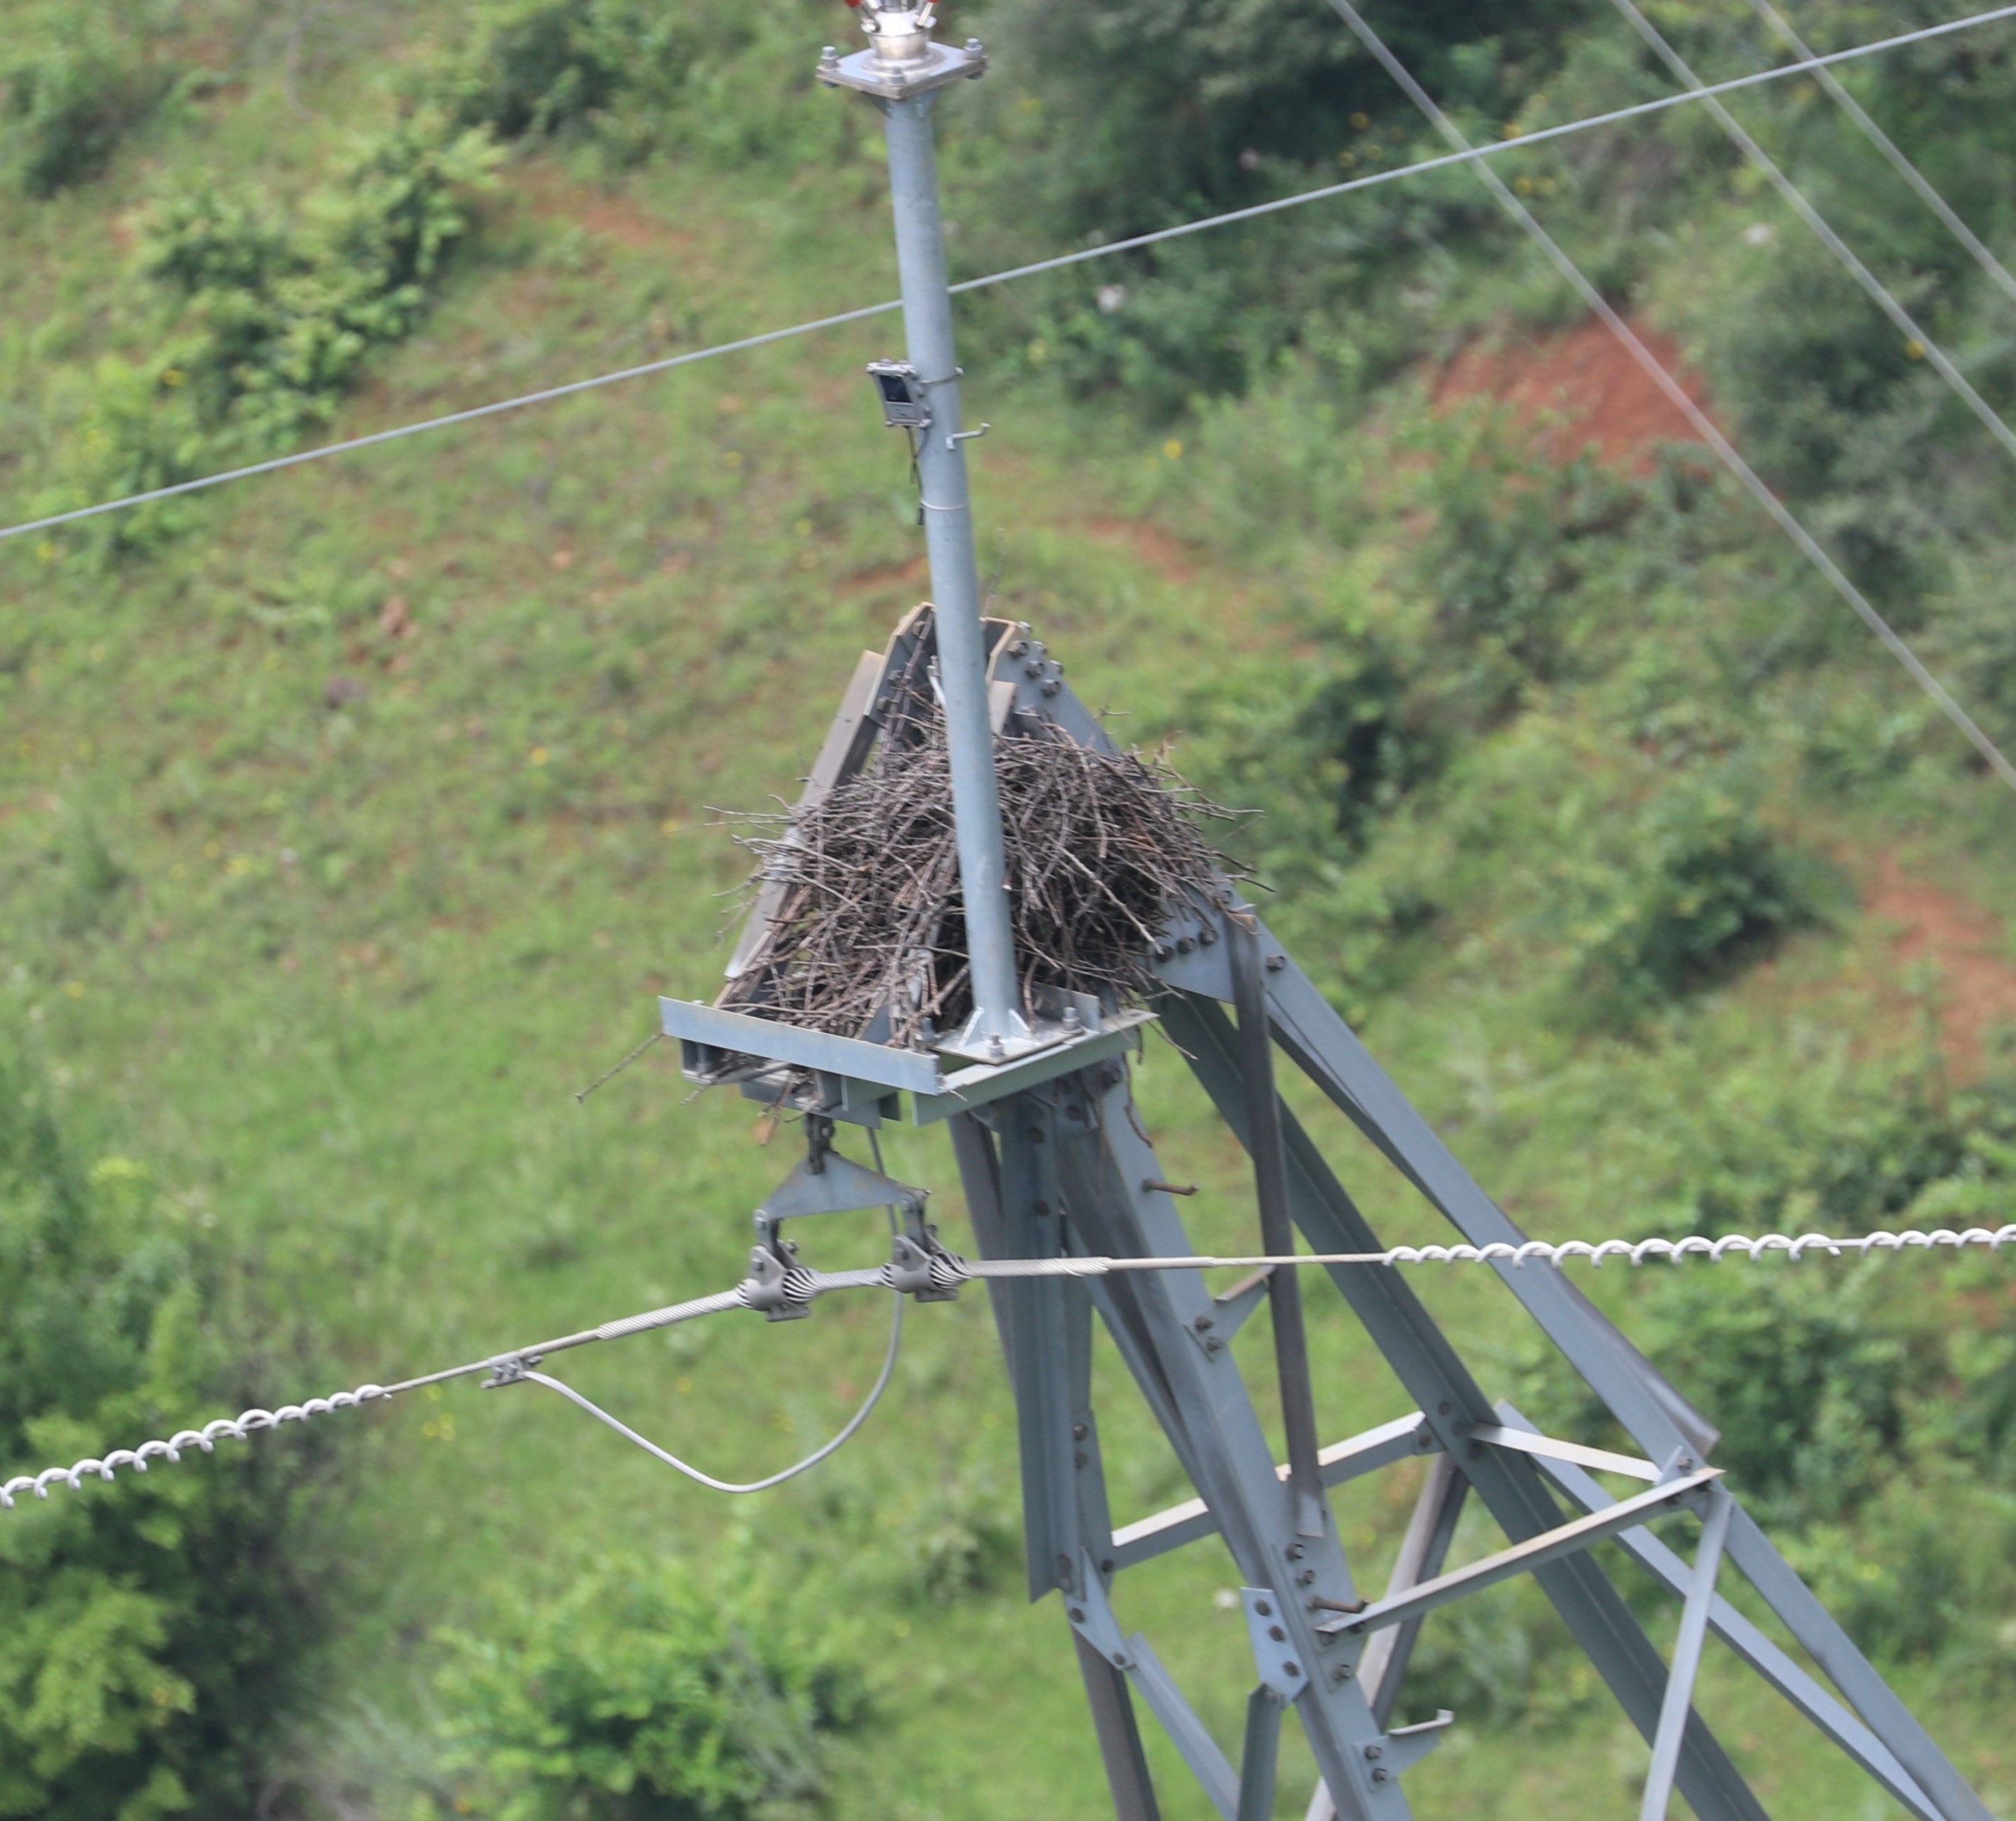niaowo: (725, 662, 1236, 1045)
